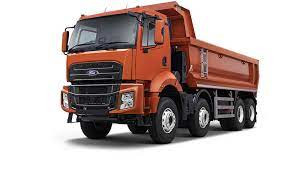truck: (60, 1, 260, 144)
